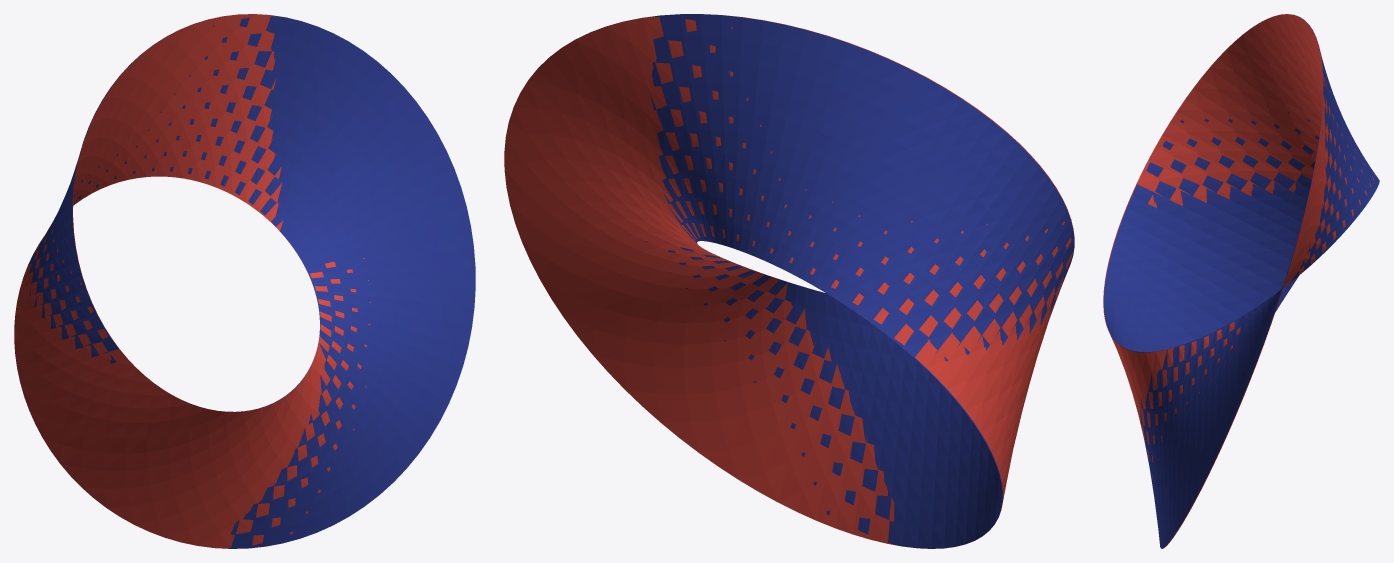
The model's file is moebius.glb.
3 renders of one model, left to right at view 1: azimuth 30°, elevation 25°; view 2: azimuth 150°, elevation 25°; view 3: azimuth 270°, elevation 25°, orthographic. The views are drawn at different scales.
Visible parts, largest first — view 1: z-fighting; view 2: z-fighting; view 3: z-fighting.
Part boxes in pixels (left/top/right/bottom): z-fighting: left=14, top=14, right=475, bottom=548; z-fighting: left=504, top=14, right=1074, bottom=548; z-fighting: left=1103, top=14, right=1379, bottom=548.
Bounding box in the file's own units: 0.3492 × 0.3729 × 0.1934.
